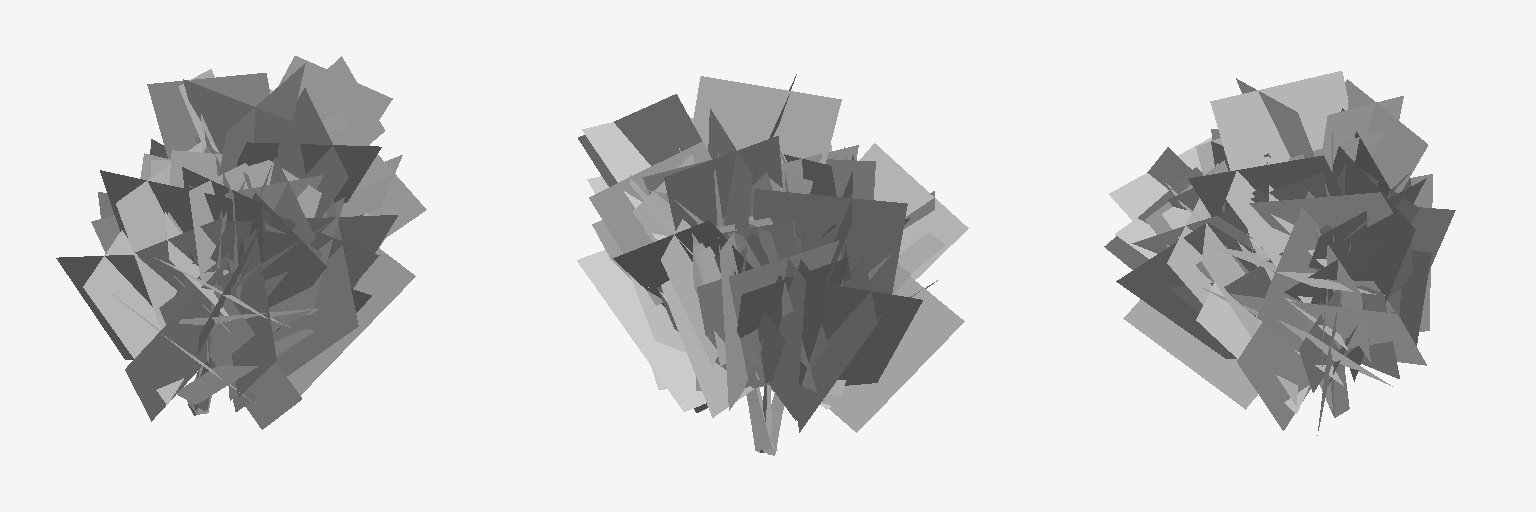
The model's file is bush04.obj.
3 renders of one model, left to right at view 1: azimuth 30°, elevation 25°; view 2: azimuth 150°, elevation 25°; view 3: azimuth 270°, elevation 25°, orthographic.
Visible parts, largest first — view 1: bush04; view 2: bush04; view 3: bush04.
Boxes of the visible parts, x1,y1,x2,y2 form: bush04: [56, 56, 426, 429]; bush04: [577, 74, 968, 455]; bush04: [1104, 71, 1455, 435].
Size of the model in its own units: 1.85 by 1.85 by 1.71.